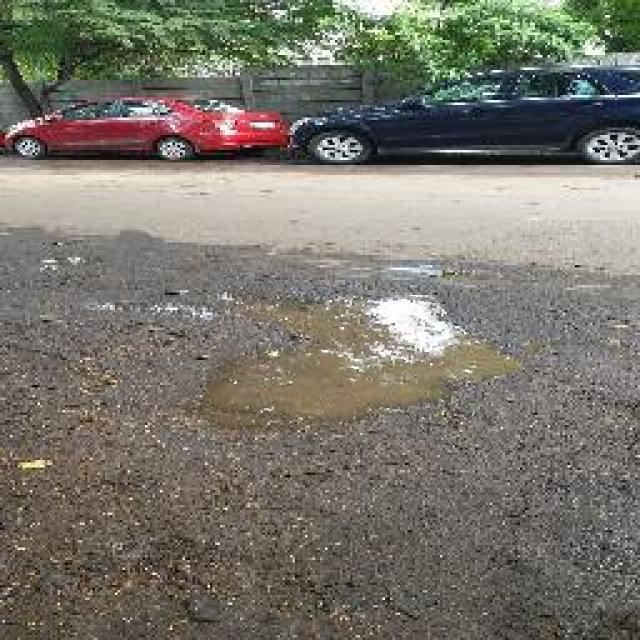puddle: (208, 283, 526, 443)
